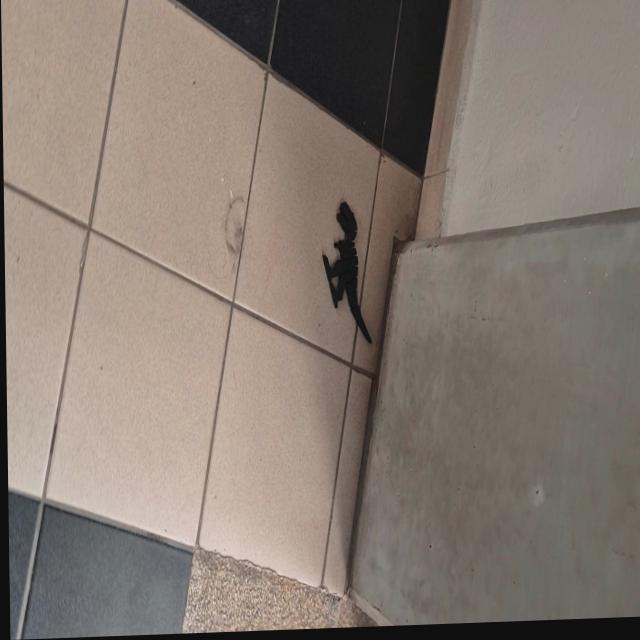dino: (320, 200, 372, 347)
